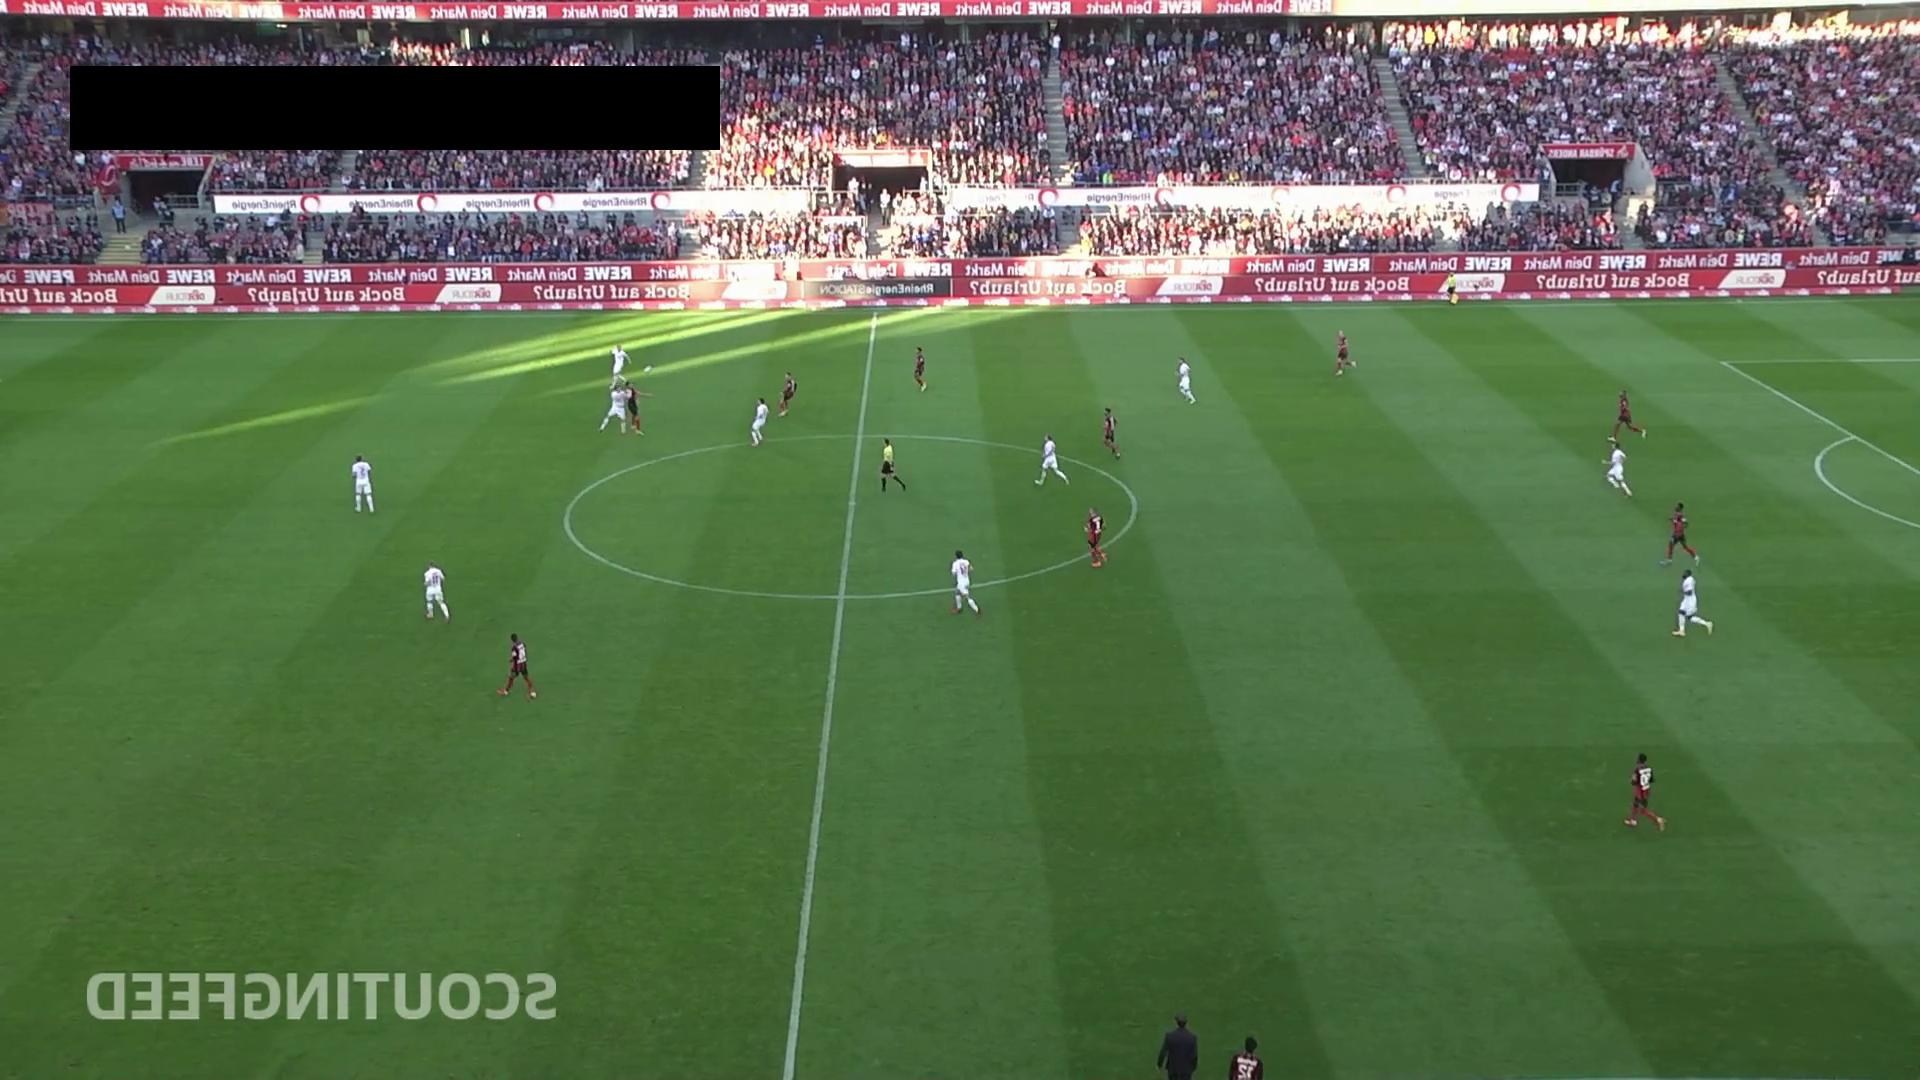ball: (642, 364, 652, 375)
player: (1623, 751, 1666, 833), (1669, 567, 1714, 638), (499, 632, 537, 700), (1660, 502, 1699, 566), (950, 549, 981, 616), (1609, 389, 1646, 444), (1034, 434, 1070, 486), (1603, 438, 1633, 498), (423, 559, 451, 623), (598, 380, 630, 435), (1227, 1035, 1264, 1079), (351, 453, 375, 514), (606, 343, 633, 392), (1084, 507, 1106, 567), (624, 384, 648, 436), (1175, 355, 1197, 404), (749, 396, 770, 447), (1334, 330, 1357, 376), (1102, 407, 1121, 459), (777, 371, 797, 416), (914, 346, 927, 392)
referee: (879, 437, 906, 492), (1442, 273, 1458, 305)
